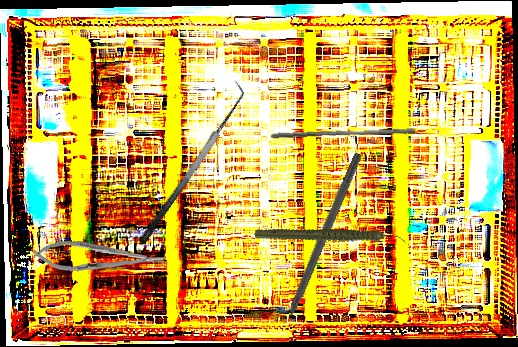Handpiece: (252, 198, 408, 277)
Hook Surgical: (273, 151, 364, 341)
Needle Holder: (31, 238, 168, 277)
Pusher: (269, 122, 417, 145)
Spatula Surgical: (125, 79, 255, 247)
